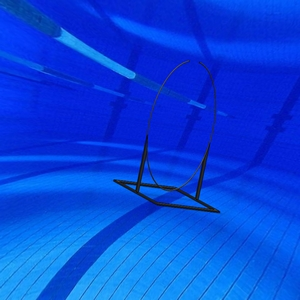circle: (113, 59, 223, 215)
